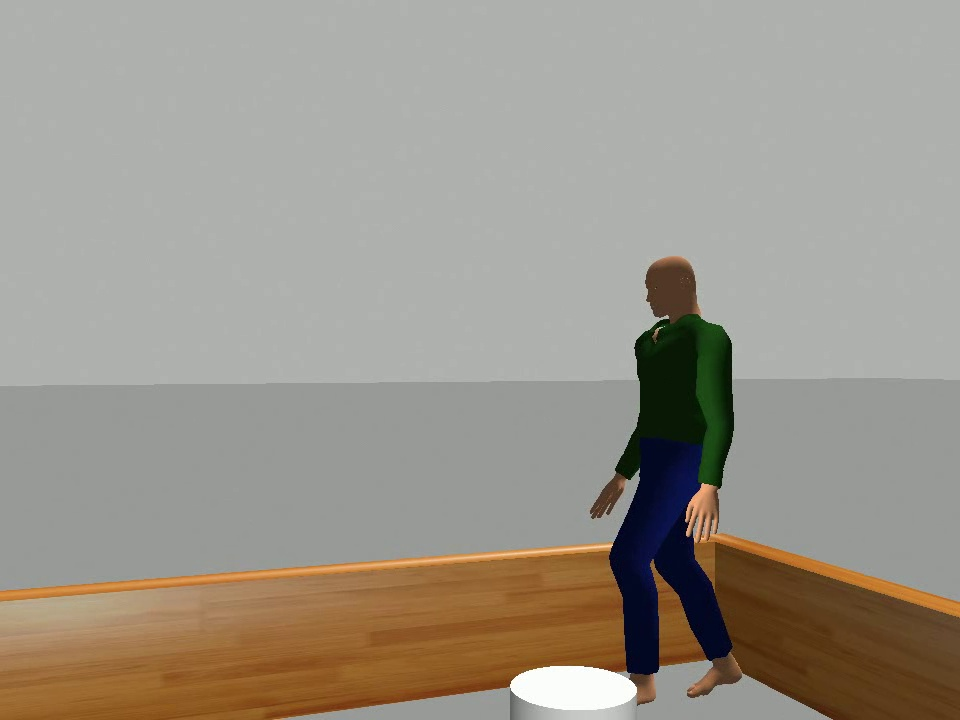person: (586, 254, 745, 706)
